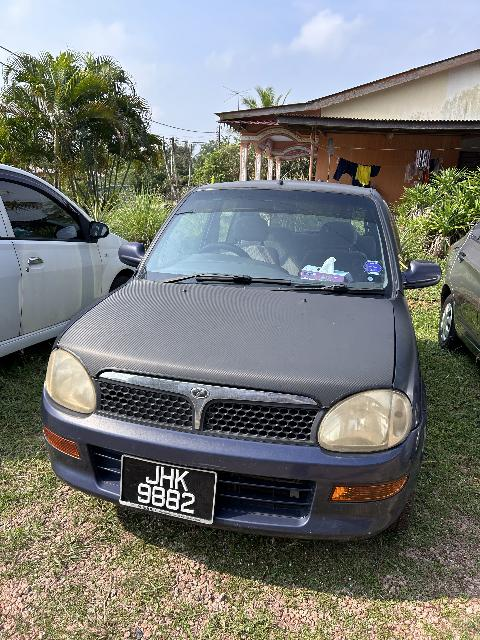License_Plate: (116, 456, 223, 528)
car: (42, 180, 448, 548)
